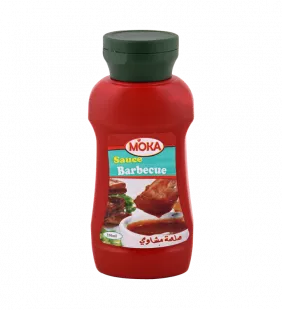MOKA: (76, 19, 205, 285)
